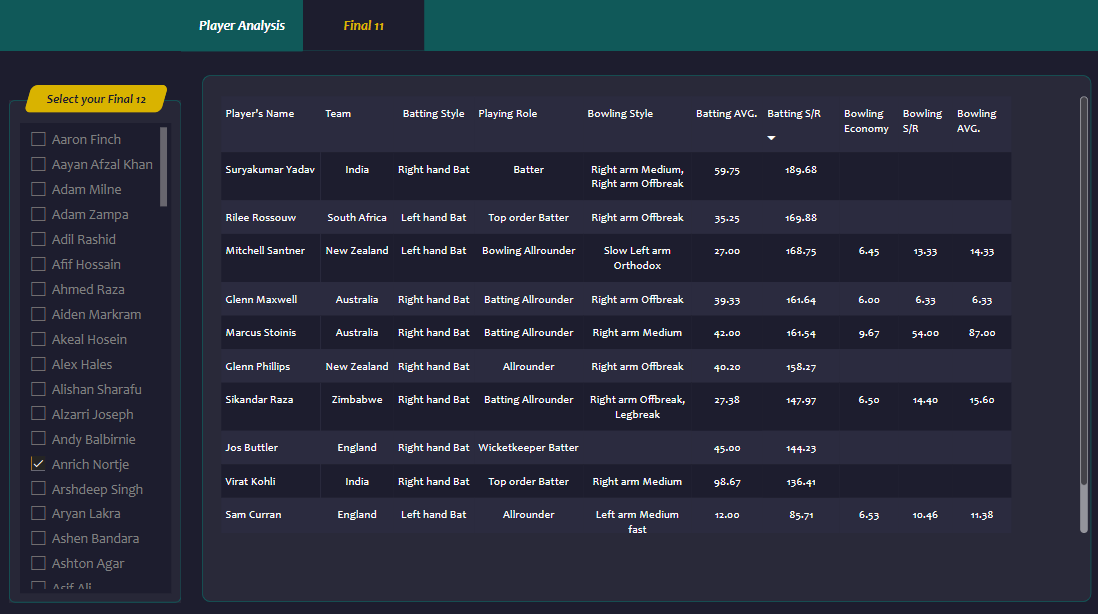

What the dashboard file says about the page in this screenshot:
{"tool":"powerbi","page":{"name":"New Final 11","canvas":[1280,720],"ordinal":5},"visuals":[{"type":"shape","box":[0,60.4,1280,659.3],"z":0},{"type":"shape","box":[11.6,101.5,1259.4,308.4],"z":1000},{"type":"shape","box":[11.6,116.9,200.5,584.7],"z":2000},{"type":"shape","box":[236.5,88.7,1034.5,613],"z":3000},{"type":"actionButton","box":[212,0,141.4,61],"z":4000},{"type":"actionButton","box":[353.4,0,141.4,60.4],"z":5000},{"type":"shape","box":[29,100,168,32.1],"z":6000},{"type":"slicer","fields":{"Values":["dim_players.name"]},"box":[24.4,143.9,176.1,547.5],"z":7000},{"type":"pivotTable","fields":{"Rows":["dim_players.name"],"Values":["dim_players.team","dim_players.battingStyle","dim_players.playingRole","dim_players.bowlingStyle","Key_Measures.Batting Average","Key_Measures.Strike Rate","Key_Measures.Bowling Economy","Key_Measures.Bowling Strike Rate","Key_Measures.Bowling Average"]},"box":[253.2,108,1017.8,517.9],"z":8000}]}

Visuals, with their boxes on the page's 1280x720 design canvas (x1, y1, x2, y2). These are canvas units, not pixel positions in the 1098x614 screenshot, which may show the page scaled, cropped or inside an application window:
shape: {"x1": 0, "y1": 60, "x2": 1280, "y2": 720}
shape: {"x1": 12, "y1": 102, "x2": 1271, "y2": 410}
shape: {"x1": 12, "y1": 117, "x2": 212, "y2": 702}
shape: {"x1": 236, "y1": 89, "x2": 1271, "y2": 702}
actionButton: {"x1": 212, "y1": 0, "x2": 353, "y2": 61}
actionButton: {"x1": 353, "y1": 0, "x2": 495, "y2": 60}
shape: {"x1": 29, "y1": 100, "x2": 197, "y2": 132}
slicer - dim_players.name: {"x1": 24, "y1": 144, "x2": 200, "y2": 691}
pivotTable - dim_players.name x dim_players.team: {"x1": 253, "y1": 108, "x2": 1271, "y2": 626}
